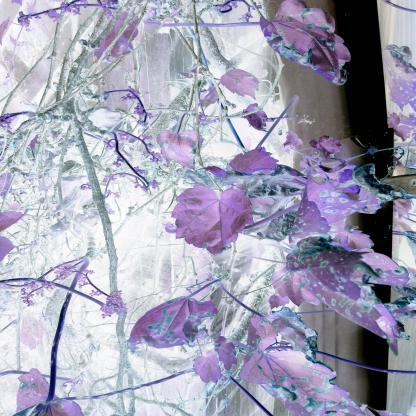grape leaf: (246, 314, 342, 407), (257, 4, 359, 91), (102, 294, 228, 356), (167, 186, 255, 257), (283, 233, 375, 299), (280, 176, 362, 242), (274, 304, 322, 360), (156, 129, 203, 173), (220, 66, 263, 106)
